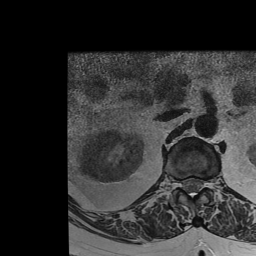CCS_normal: (188, 168, 196, 203)
LFS_normal: (205, 168, 213, 197)
LLS_normal: (196, 169, 205, 197)
RFS_normal: (173, 170, 180, 196)
RLS_normal: (180, 170, 188, 198)
